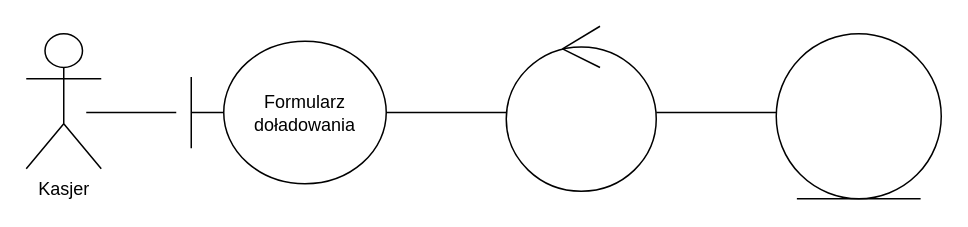
Some shapes in this 968 by 227 pixel diagram are drawn without their labels. The shapes that lost their labels are listed below. From the top down, each one's centre as x and y in pixels, then its label:
At [580,108]: "Doładowanie".
At [858,115]: "Baza danych".
